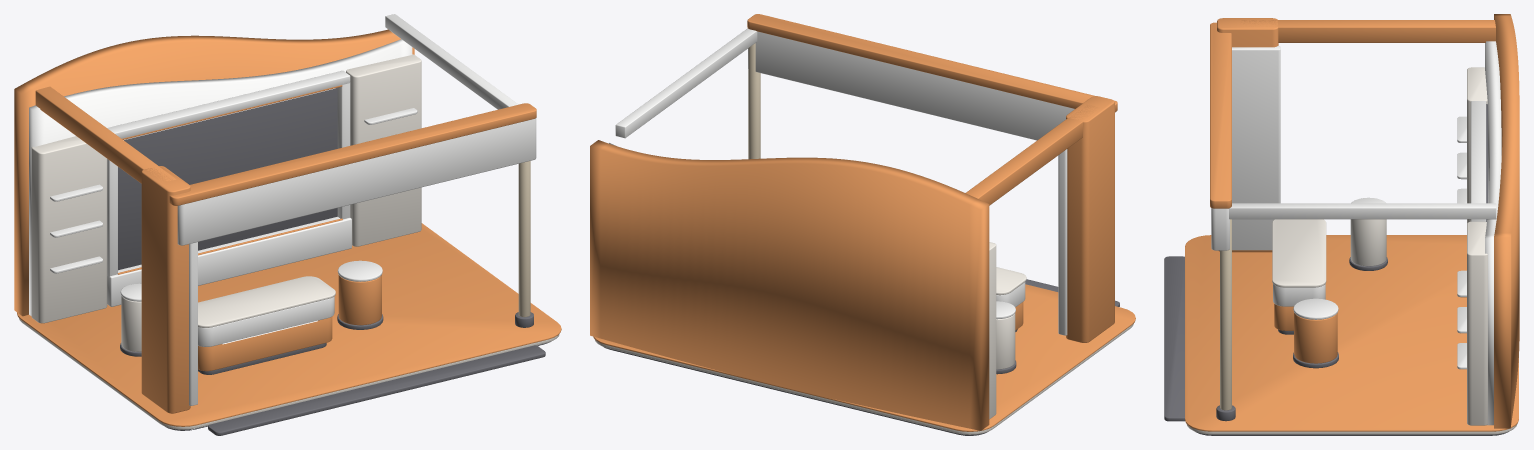
Rendered from booth_04_wave_pavilion_v4.glb.
3 views of the same model, side by side, from view 1: azimuth 30°, elevation 25°; view 2: azimuth 150°, elevation 25°; view 3: azimuth 270°, elevation 25° (orthographic).
Visible parts, largest first — view 1: Booth04_WavePavilion_Wave_Architectural_Orange, Booth04_WavePavilion_Wave_Crisp_White, Booth04_WavePavilion_Wave_Warm_Cream, Booth04_WavePavilion_Wave_Dark_Charcoal, Booth04_WavePavilion_Wave_Brushed_Champagne; view 2: Booth04_WavePavilion_Wave_Architectural_Orange, Booth04_WavePavilion_Wave_Crisp_White, Booth04_WavePavilion_Wave_Warm_Cream, Booth04_WavePavilion_Wave_Brushed_Champagne, Booth04_WavePavilion_Wave_Dark_Charcoal; view 3: Booth04_WavePavilion_Wave_Architectural_Orange, Booth04_WavePavilion_Wave_Crisp_White, Booth04_WavePavilion_Wave_Warm_Cream, Booth04_WavePavilion_Wave_Dark_Charcoal, Booth04_WavePavilion_Wave_Brushed_Champagne.
Part boxes in pixels (<box>): Booth04_WavePavilion_Wave_Architectural_Orange: <box>14,29,561,426</box>; Booth04_WavePavilion_Wave_Crisp_White: <box>29,14,536,405</box>; Booth04_WavePavilion_Wave_Warm_Cream: <box>19,54,559,429</box>; Booth04_WavePavilion_Wave_Dark_Charcoal: <box>118,88,550,435</box>; Booth04_WavePavilion_Wave_Brushed_Champagne: <box>518,161,530,317</box>; Booth04_WavePavilion_Wave_Architectural_Orange: <box>590,14,1135,431</box>; Booth04_WavePavilion_Wave_Crisp_White: <box>609,28,1074,335</box>; Booth04_WavePavilion_Wave_Warm_Cream: <box>594,242,1133,434</box>; Booth04_WavePavilion_Wave_Brushed_Champagne: <box>748,43,760,159</box>; Booth04_WavePavilion_Wave_Dark_Charcoal: <box>604,279,1119,435</box>; Booth04_WavePavilion_Wave_Architectural_Orange: <box>1185,14,1519,431</box>; Booth04_WavePavilion_Wave_Crisp_White: <box>1211,41,1501,425</box>; Booth04_WavePavilion_Wave_Warm_Cream: <box>1186,67,1517,434</box>; Booth04_WavePavilion_Wave_Dark_Charcoal: <box>1164,104,1508,435</box>; Booth04_WavePavilion_Wave_Brushed_Champagne: <box>1220,219,1231,410</box>.
Size of the model in its own units: 7.2 by 4.24 by 5.53.
